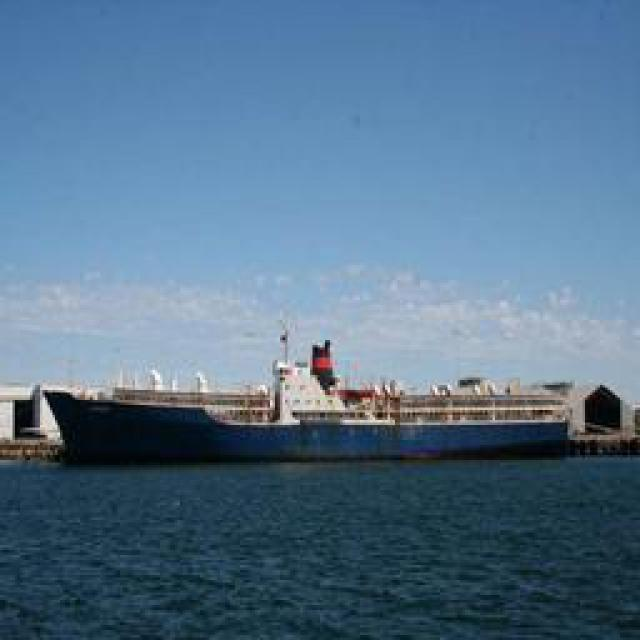Ship: (41, 342, 579, 462)
